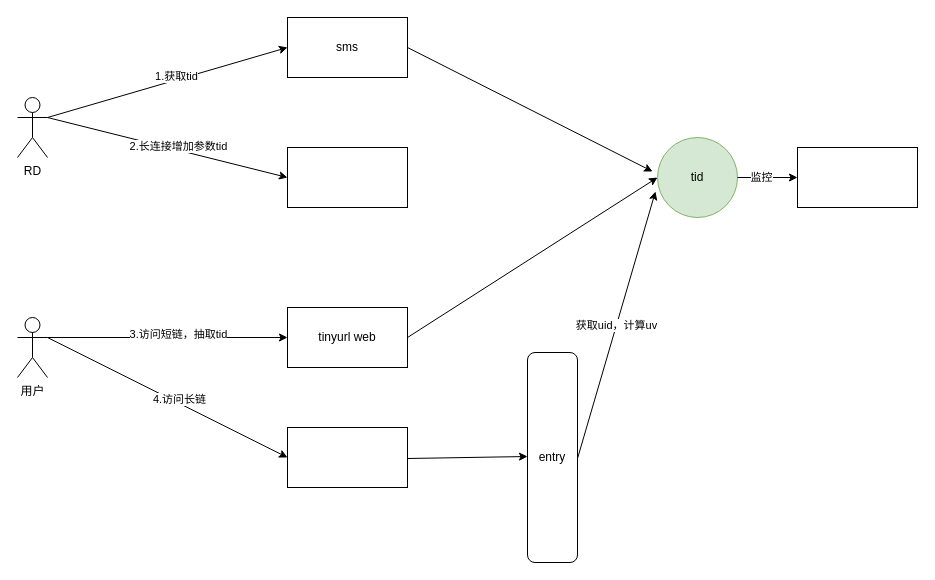
Image size: 935x580. Some labels were removed from this diagram. The shapes that lost their labels are listed below. From the top down, each one's centre as x and y in pixels, then its label:
point 347,177: tinyurl scf
point 857,177: grafna
point 347,457: 长连接 web
